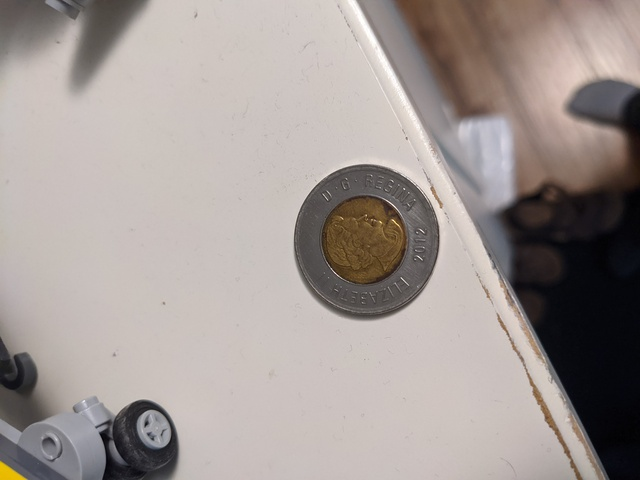twonie: (285, 162, 441, 315)
